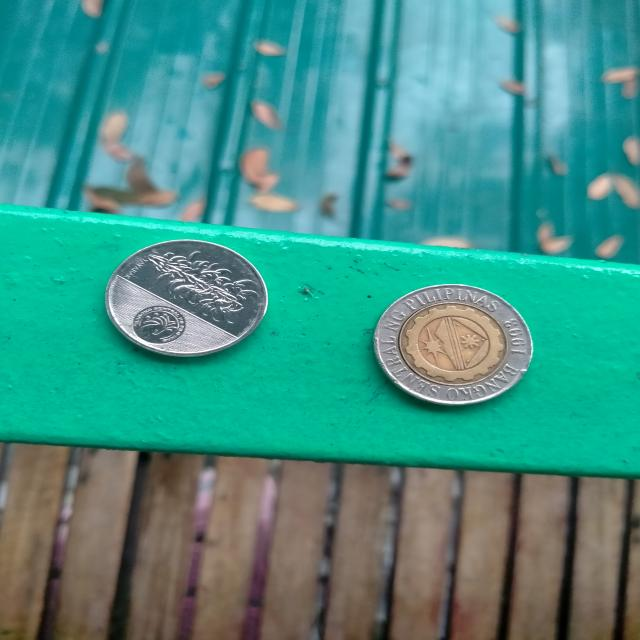10_Old_Back: (375, 284, 536, 411)
5_New_Back: (140, 248, 253, 322)
